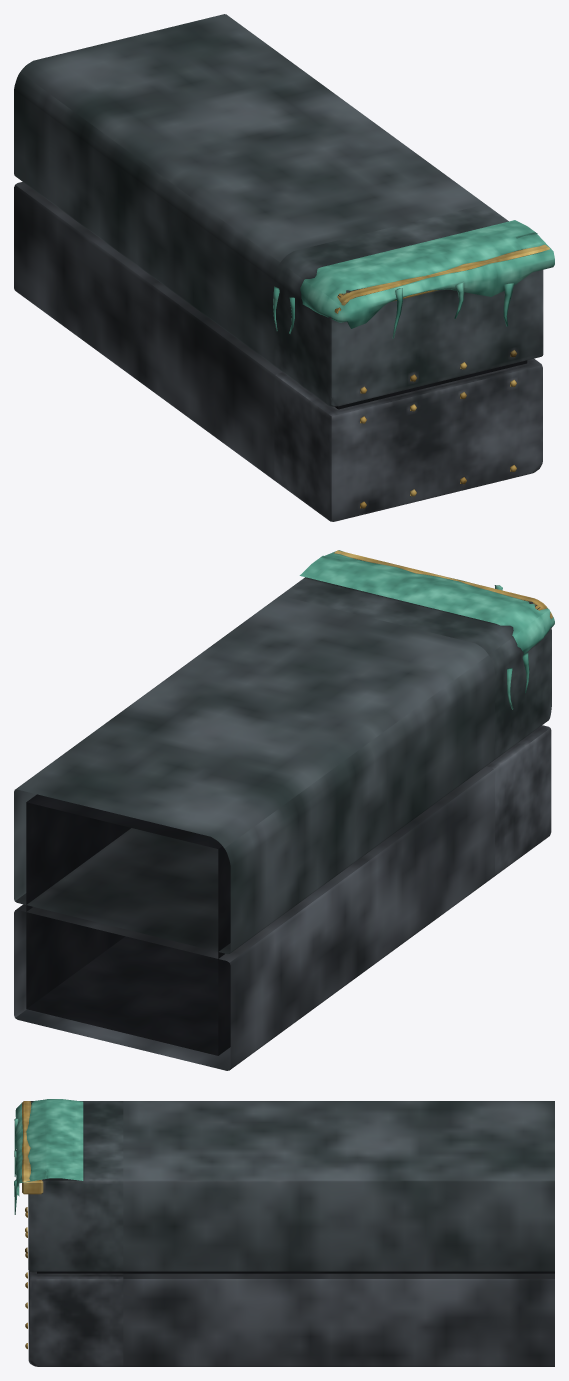
File: ClockLung_Edge_L.fbx
3 views of the same model, one above another, from view 1: azimuth 30°, elevation 25°; view 2: azimuth 150°, elevation 25°; view 3: azimuth 270°, elevation 25° (orthographic). The views are drawn at different scales.
Parts seen in each view (by area): view 1: ClockLung_Edge_L; view 2: ClockLung_Edge_L; view 3: ClockLung_Edge_L.
Part boxes in pixels (bbox=[...]): ClockLung_Edge_L: bbox=[14, 14, 554, 521]; ClockLung_Edge_L: bbox=[14, 550, 554, 1070]; ClockLung_Edge_L: bbox=[14, 1099, 554, 1366].
Bounding box in the file's own units: 1.02 × 1.01 × 2.57.
